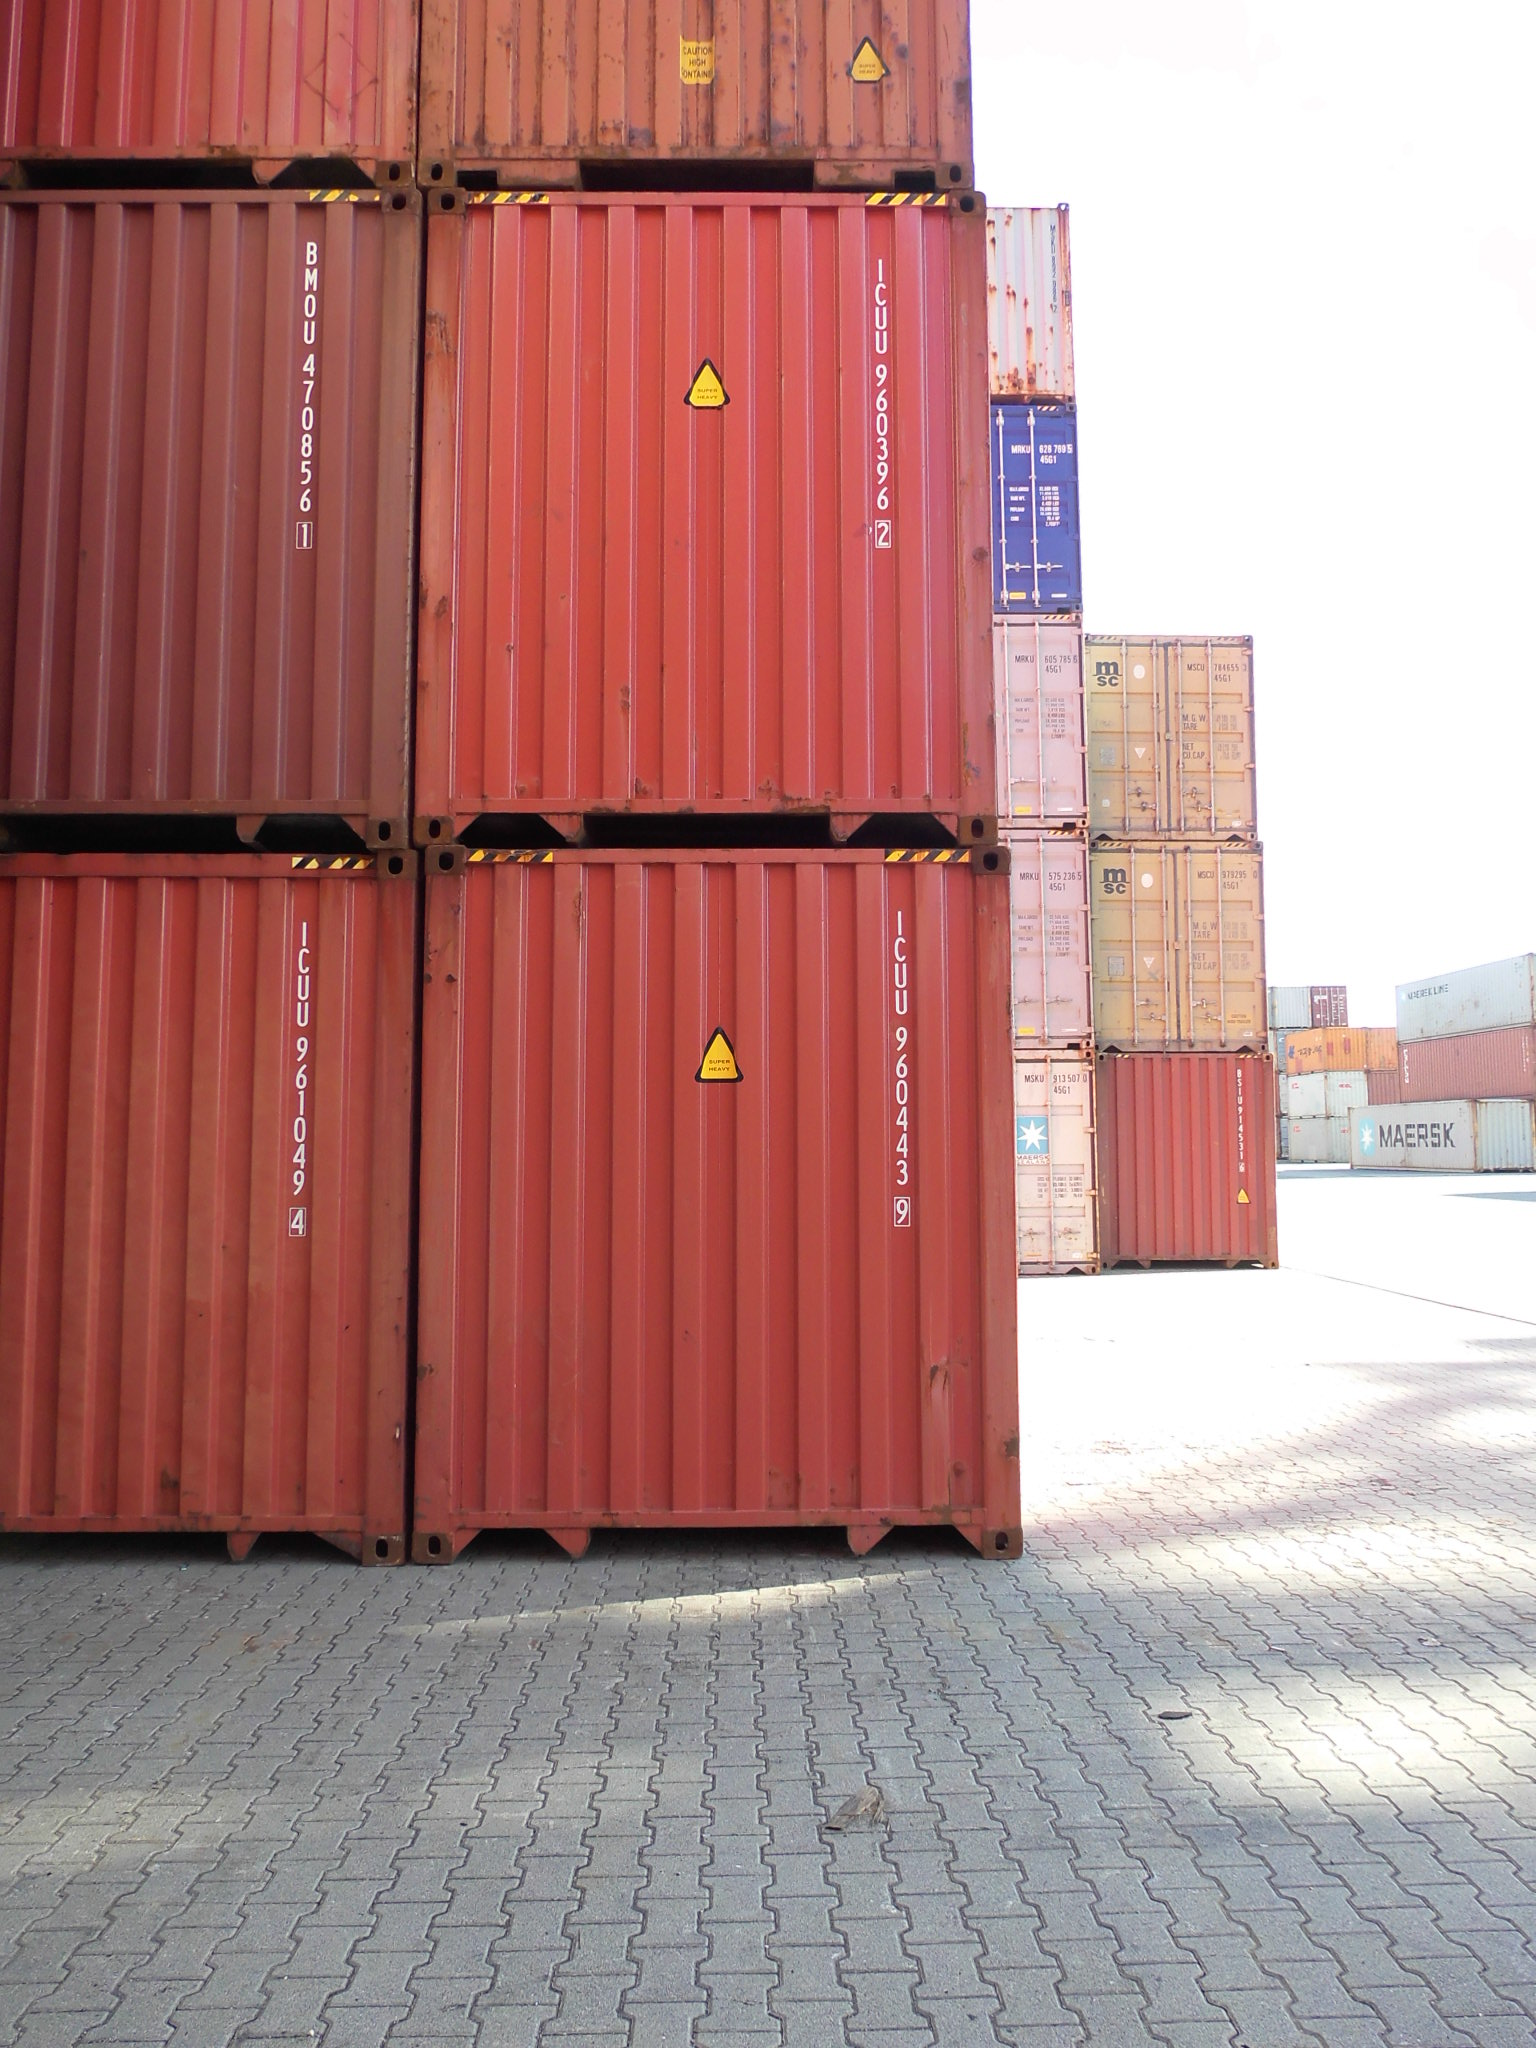container_door: (1091, 840, 1265, 1056), (1086, 634, 1260, 848), (989, 402, 1081, 618), (1010, 839, 1102, 1055), (995, 618, 1087, 834), (1012, 1050, 1104, 1266)
container_no_door: (429, 839, 1025, 1564), (423, 181, 994, 843), (2, 845, 423, 1556), (3, 181, 428, 847), (1100, 1051, 1273, 1268), (991, 202, 1081, 402)
